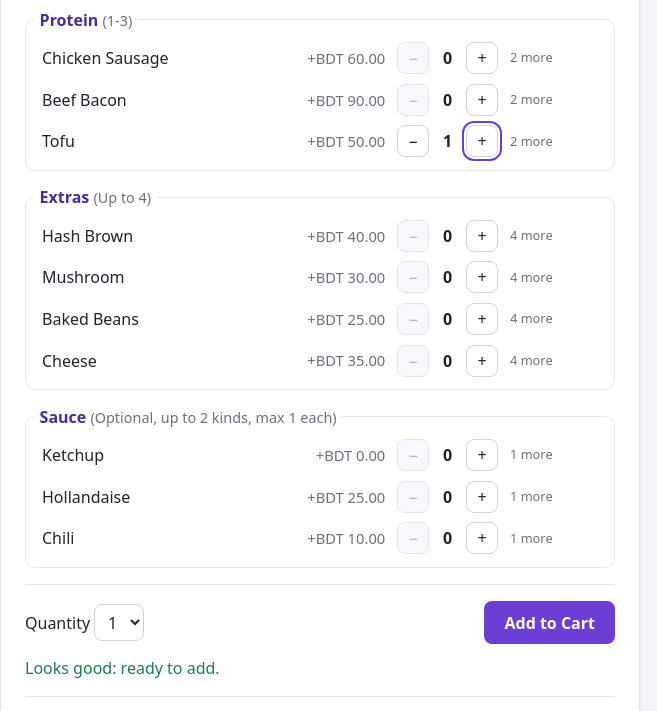
Scenario: Builder › lists every shortage when the quantity no longer fits (like TC-11)
The width and height of the screenshot is (657, 711).
Earlier steps of the test are not shown.
(page scrolled)
Click the button "+" in the row of "Cheese".
click(482, 360)  # box [466,344,498,376]
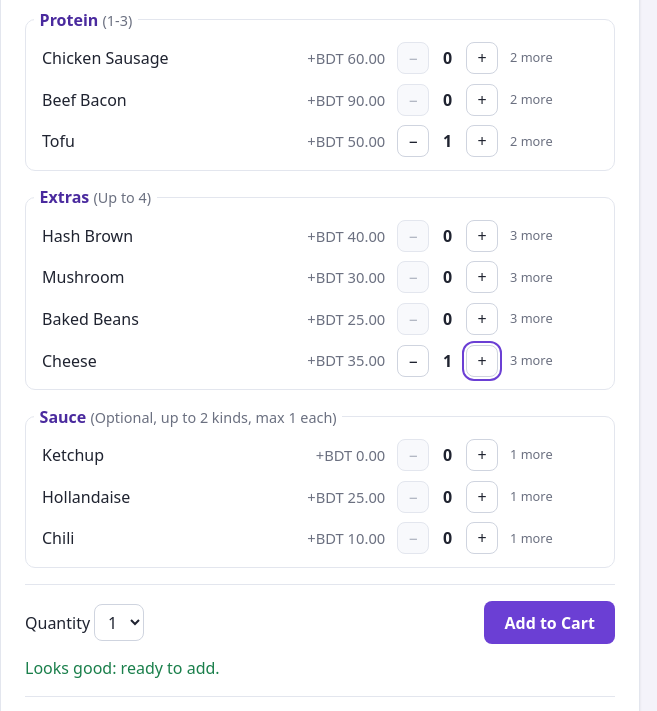
Click the button "+" in the row of "Cheese".
click(482, 360)  # box [466,344,498,376]
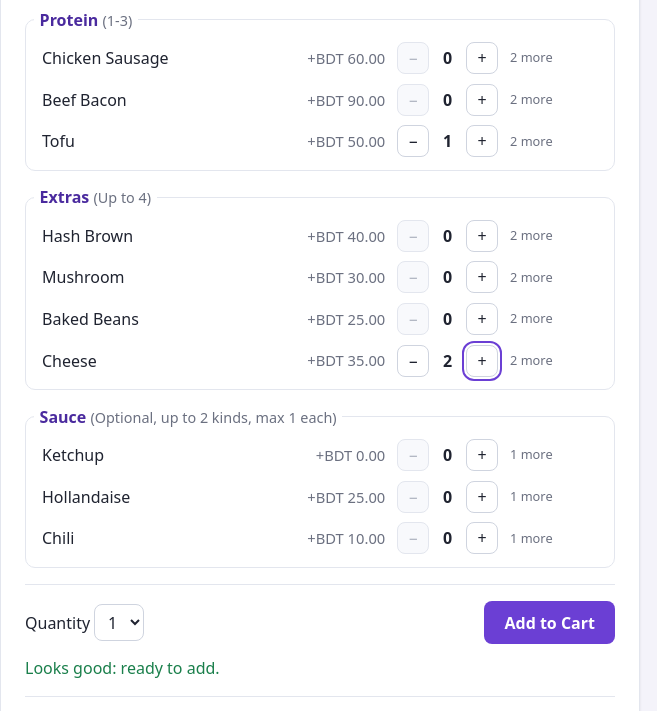
Click the button "+" in the row of "Baked Beans".
click(482, 319)  # box [466,303,498,335]
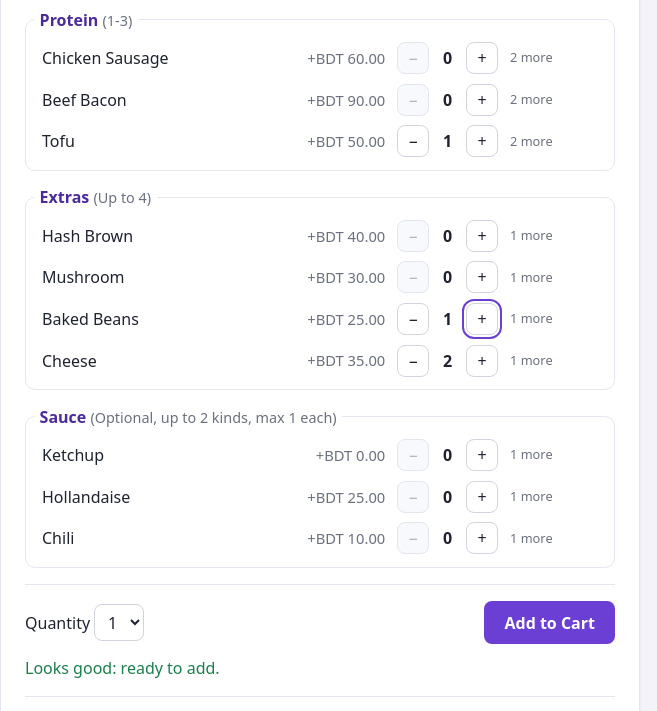
Click the button "+" in the row of "Mushroom".
click(482, 277)  # box [466,261,498,293]
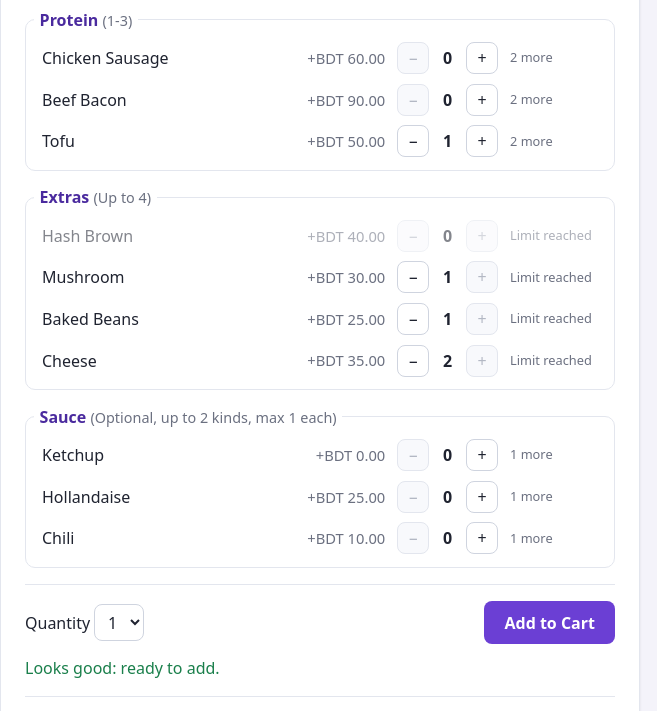
Click the button "+" in the row of "10.00".
click(482, 538)  # box [466,522,498,554]
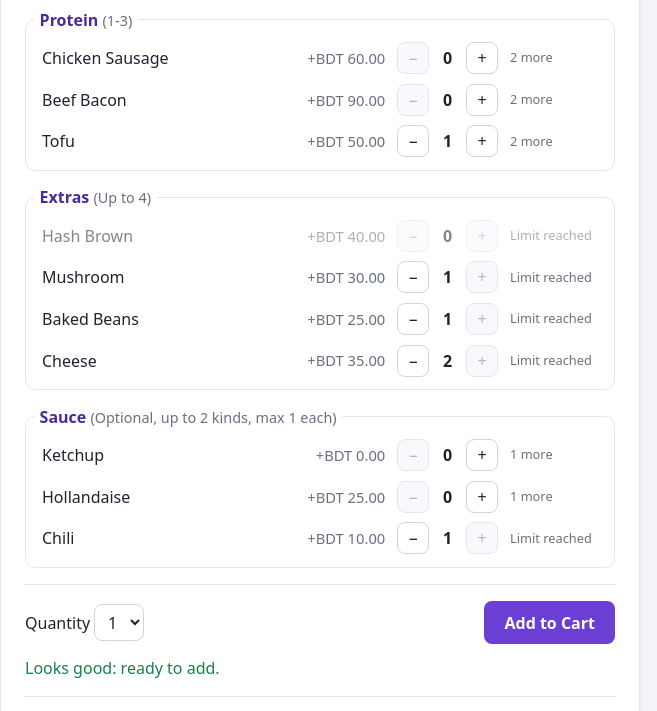
Expected: the button "Add to Cart" is enabled, [484,601,615,644]
Select "3" in the dropdown labelled "Quantity" at point(119, 623), box [94,604,144,641]
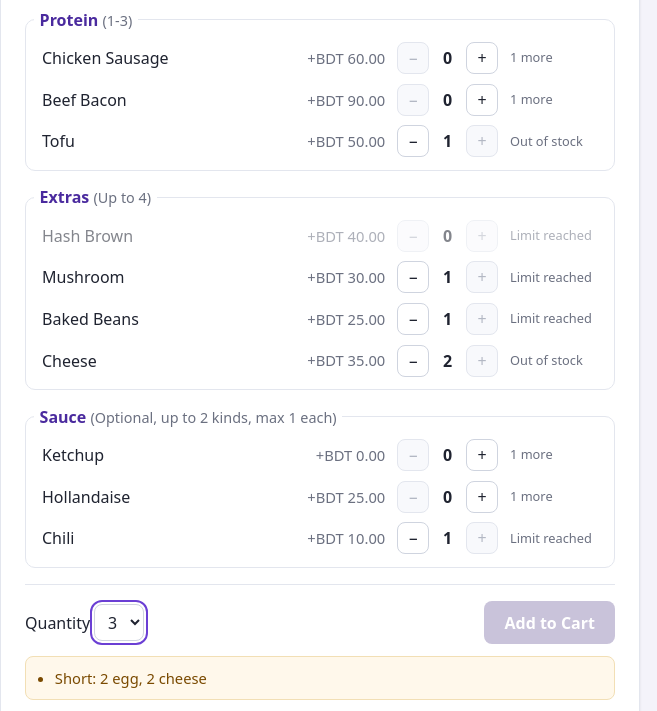
Result: the button "Add to Cart" is disabled at [484,601,615,644]
Result: the list item "Short: 2 egg, 2 cheese" is shown at [55,668,207,688]
